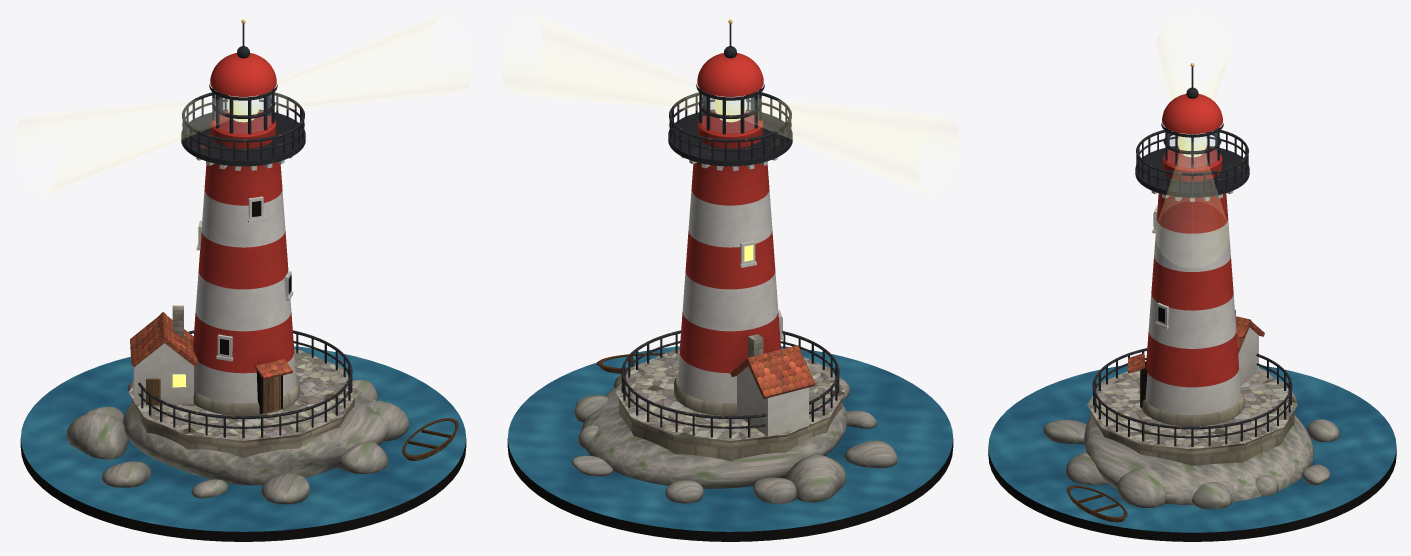
The model's file is latarnia.glb.
3 views of the same model, side by side, from view 1: azimuth 30°, elevation 25°; view 2: azimuth 150°, elevation 25°; view 3: azimuth 270°, elevation 25° (orthographic). The views are drawn at different scales.
Visible parts, largest first — view 1: latarnia, snop_swiatla; view 2: latarnia, snop_swiatla; view 3: latarnia, snop_swiatla.
Boxes of the visible parts, x1,y1,x2,y2 form: latarnia: (20,19,466,541); snop_swiatla: (29,16,456,193); latarnia: (507,19,953,541); snop_swiatla: (517,16,944,193); latarnia: (988,63,1396,541); snop_swiatla: (1158,14,1226,267).
Size of the model in its own units: 1.3 by 1.28 by 1.2.
Materials: 17 (10 with a texture image).
